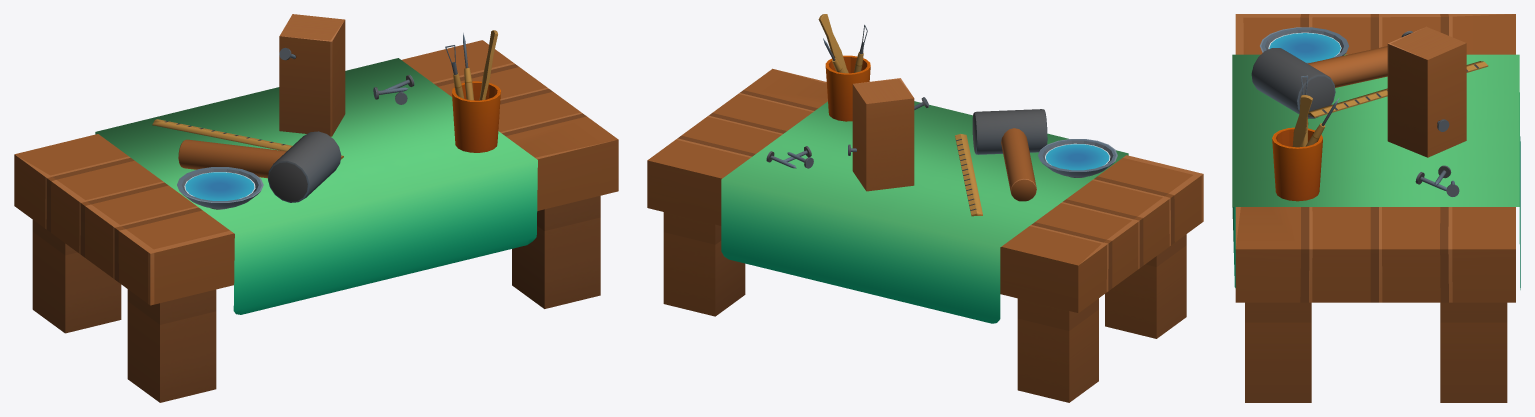
Rendered from WorkStation.FBX.
The picture shows the model from 3 angles, left to right: view 1: azimuth 30°, elevation 25°; view 2: azimuth 150°, elevation 25°; view 3: azimuth 270°, elevation 25°; orthographic projection. The views are drawn at different scales.
Visible parts, largest first — view 1: Workstation; view 2: Workstation; view 3: Workstation.
Boxes of the visible parts, <box> form: Workstation: <box>14,14,618,402</box>; Workstation: <box>647,14,1203,402</box>; Workstation: <box>1232,14,1520,402</box>.
Bounding box in the file's own units: 1.67 × 0.8902 × 0.8622.
